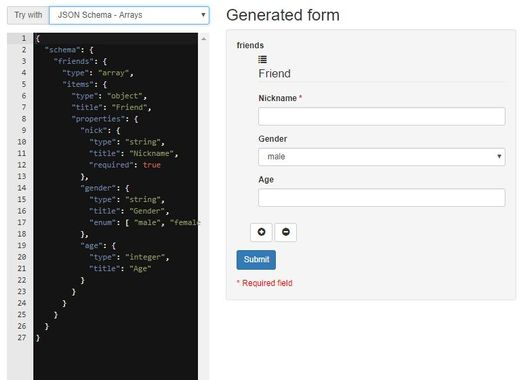button: (234, 248, 277, 271)
field: (257, 106, 507, 128), (257, 187, 507, 209)
select: (257, 146, 506, 168), (48, 5, 211, 27)
